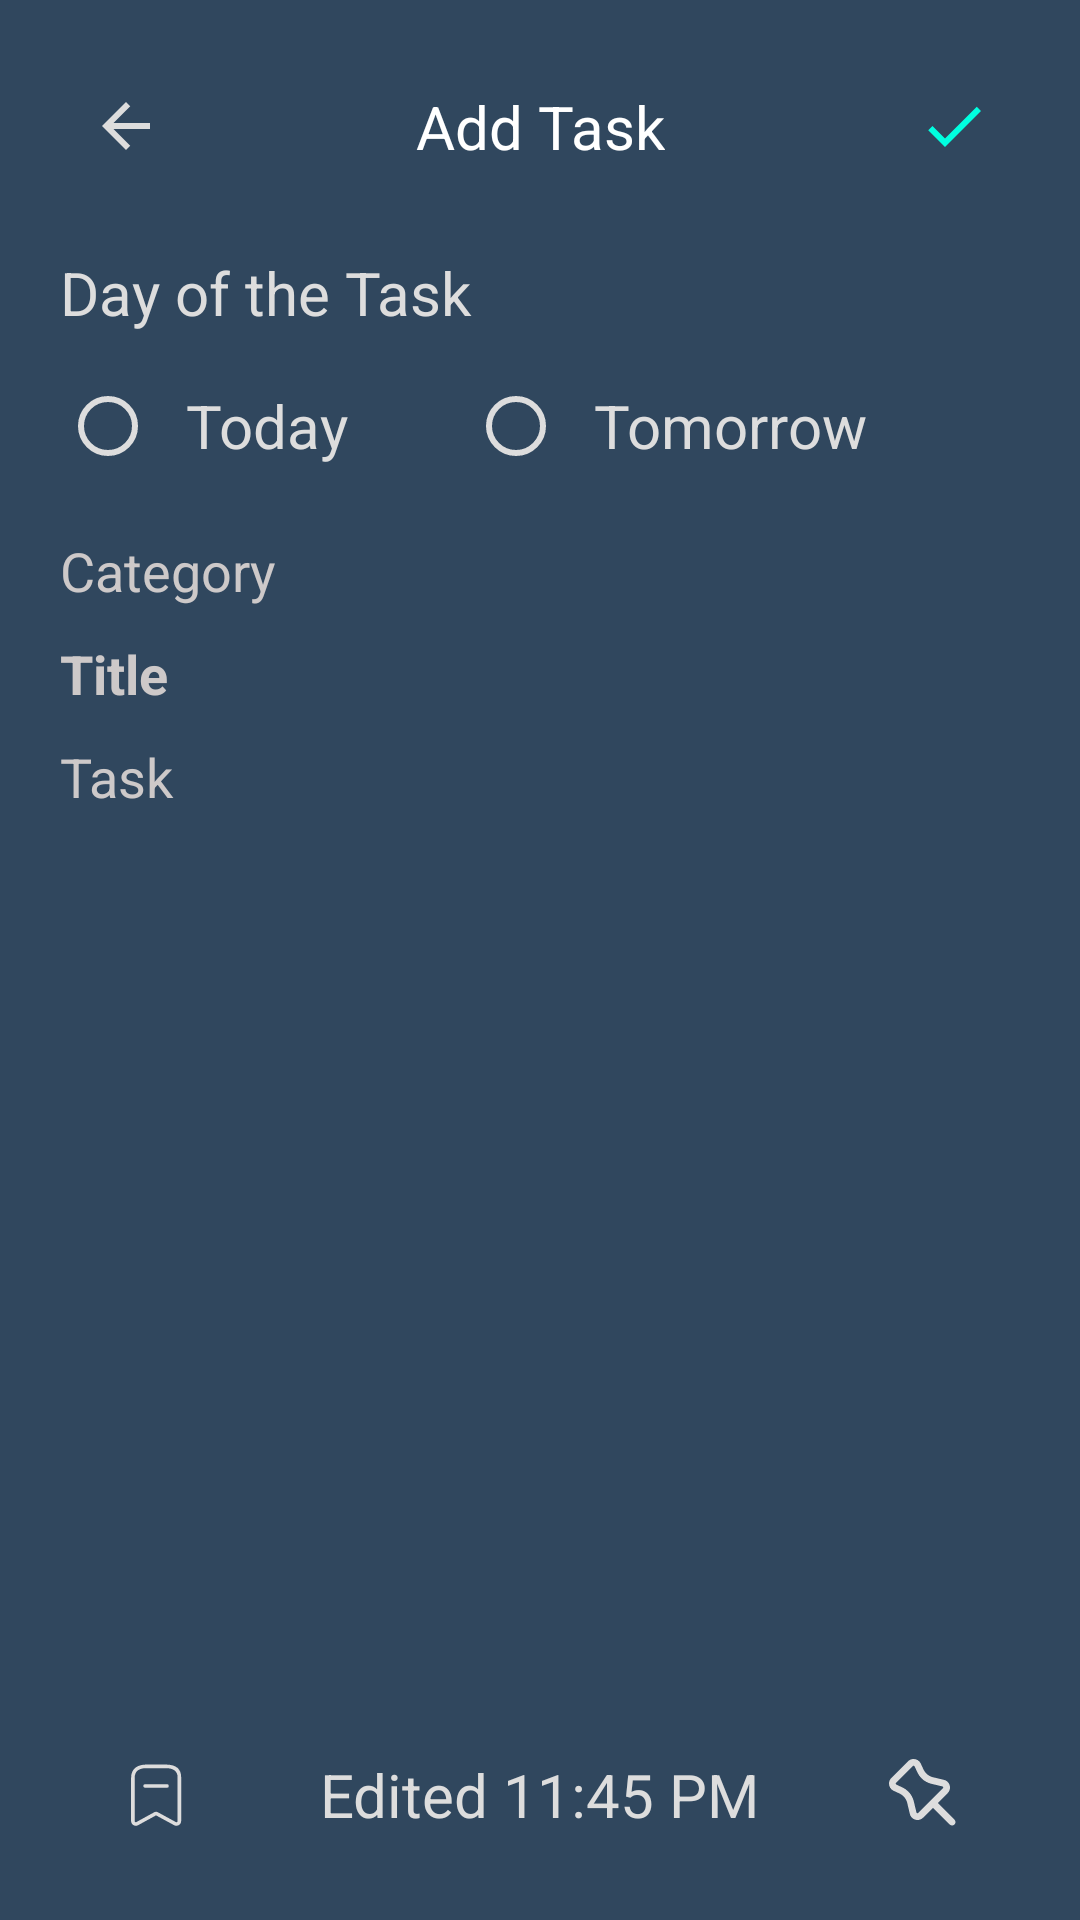

Named icons in this screenshot (1080x1920) and their bounding boxes, (x1=x1, y1=y1, x2=x2, y2=y2):
back: (x1=102, y1=102, x2=150, y2=150)
not archieve: (x1=131, y1=1764, x2=182, y2=1826)
pin: (x1=889, y1=1759, x2=956, y2=1826)
save: (x1=928, y1=107, x2=981, y2=147)
